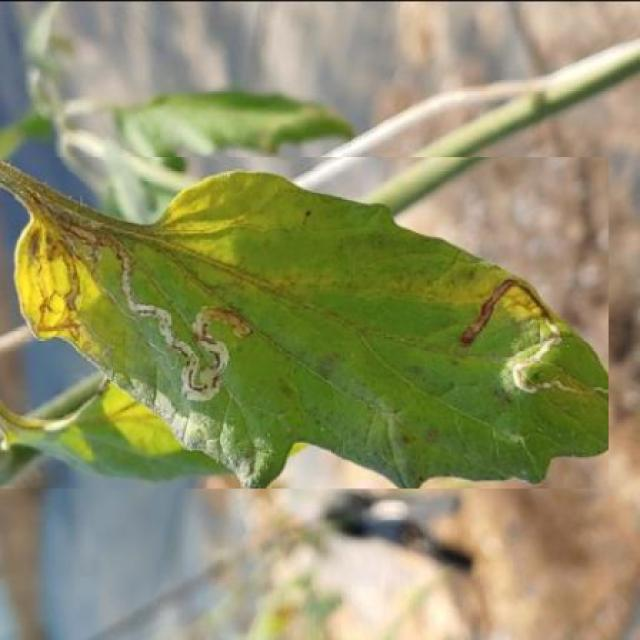Leaf Miner: (1, 158, 608, 488)
